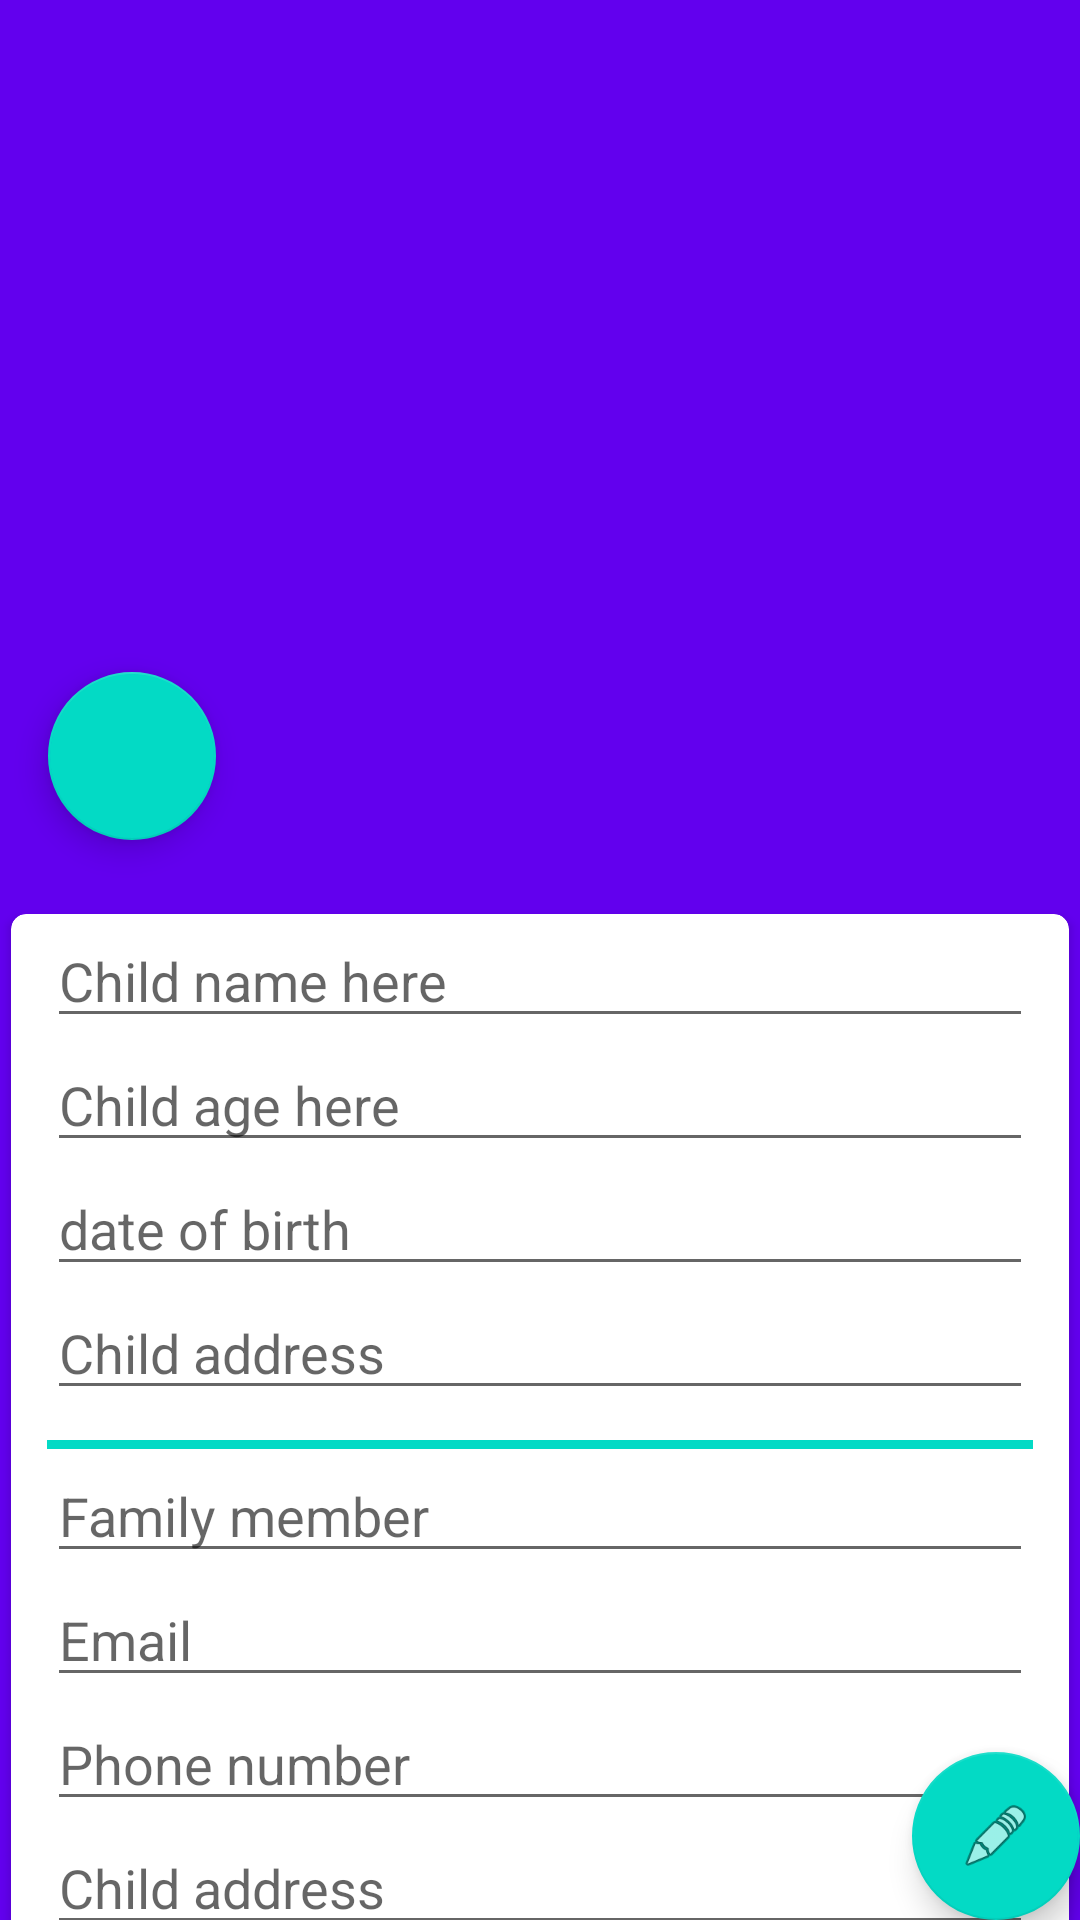

Icon bounding boxes for this 1080×1920 phone screenshot, format (x1,y1,x2,y2):
edit: (912,1752,1080,1920)
